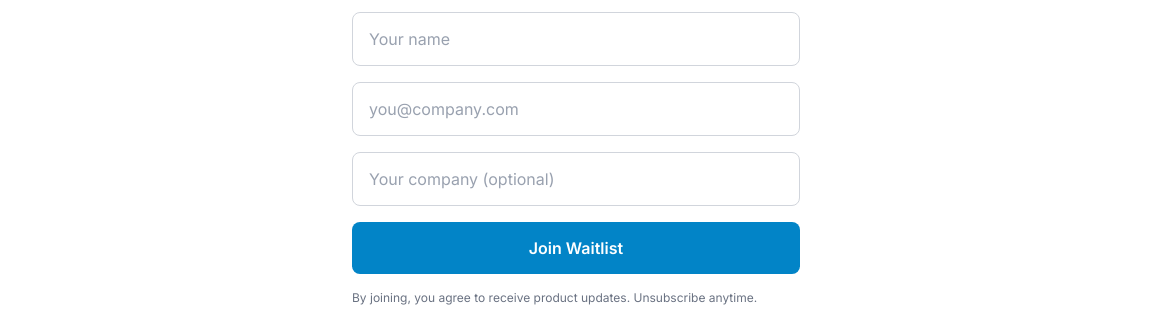
Test: WaitlistForm › should show success message after successful submission
Step 1. Type "Test User" into the field with placeholder "Your name" → {"x": 576, "y": 39}, box [352,12,800,66]
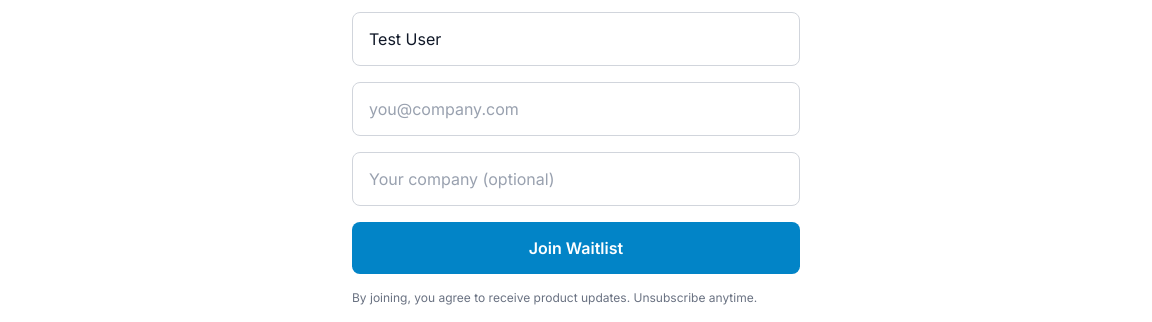
Step 2. Type "test@example.com" into the field with placeholder "you@company.com" → {"x": 576, "y": 109}, box [352,82,800,136]
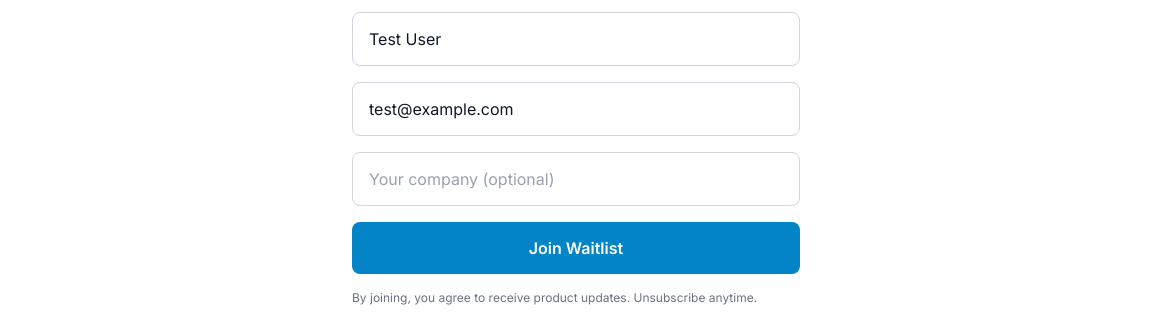
Step 3. Click the button "Join Waitlist" → {"x": 576, "y": 248}, box [352,222,800,274]
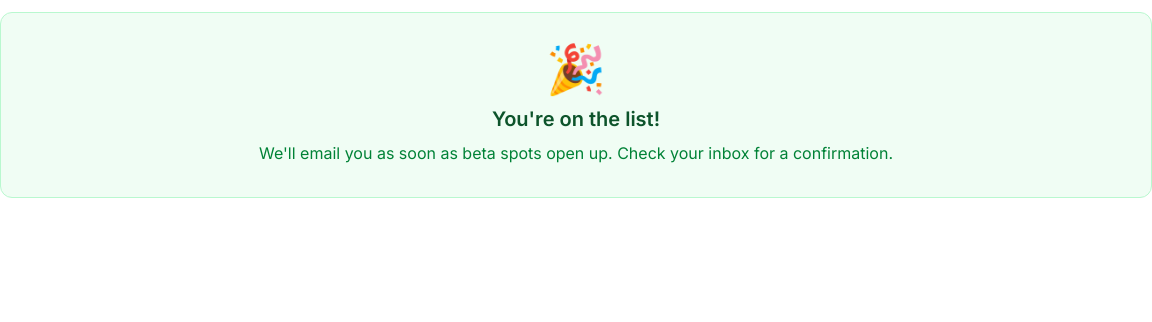
Now the heading "You're on the list!" is shown, box [492,107,660,131]
